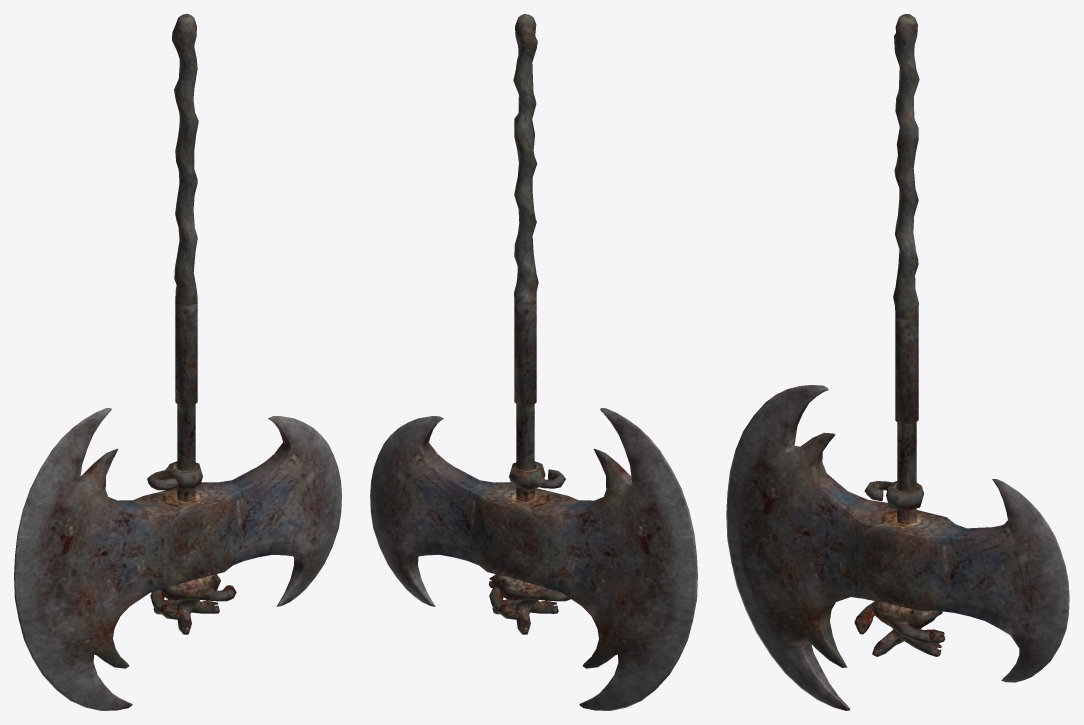
File: weapon-wp_a_0875.glb
The picture shows the model from 3 angles, left to right: view 1: azimuth 30°, elevation 25°; view 2: azimuth 150°, elevation 25°; view 3: azimuth 330°, elevation 25°; orthographic projection. The views are drawn at different scales.
Visible parts, largest first — view 1: wp_a_0875_mesh; view 2: wp_a_0875_mesh; view 3: wp_a_0875_mesh.
Part boxes in pixels (x1,y1,x2,y2): wp_a_0875_mesh: [14, 14, 341, 710]; wp_a_0875_mesh: [370, 14, 697, 710]; wp_a_0875_mesh: [726, 14, 1069, 710].
Size of the model in its own units: 0.9667 by 1.91 by 0.2217.
Materials: 1 (1 with a texture image).
